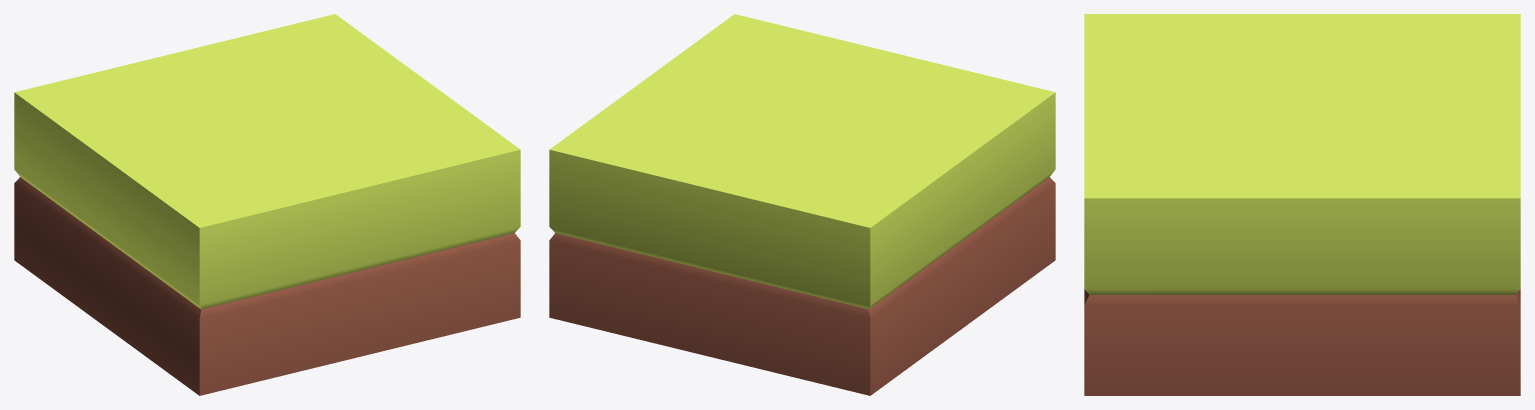
The model's file is island.gltf.
3 renders of one model, left to right at view 1: azimuth 30°, elevation 25°; view 2: azimuth 150°, elevation 25°; view 3: azimuth 270°, elevation 25°, orthographic. The views are drawn at different scales.
Visible parts, largest first — view 1: square_forest_detail.001; view 2: square_forest_detail.001; view 3: square_forest_detail.001.
Part boxes in pixels (box(x1,y1,x2,y2)): square_forest_detail.001: box(14, 14, 520, 395); square_forest_detail.001: box(549, 14, 1055, 395); square_forest_detail.001: box(1084, 14, 1520, 395).
Bounding box in the file's own units: 2 × 1 × 2.
